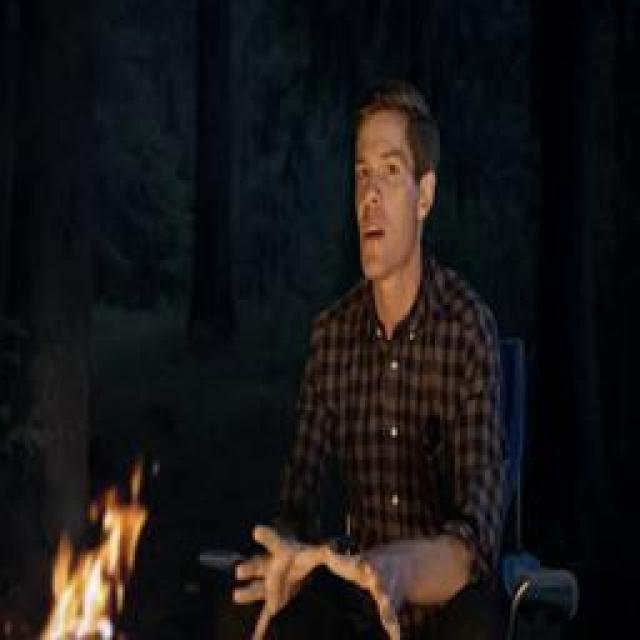Fire: (38, 462, 146, 640)
